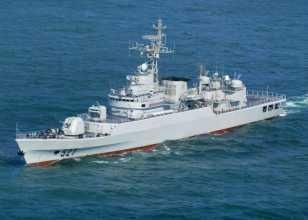warship: (8, 36, 301, 165)
